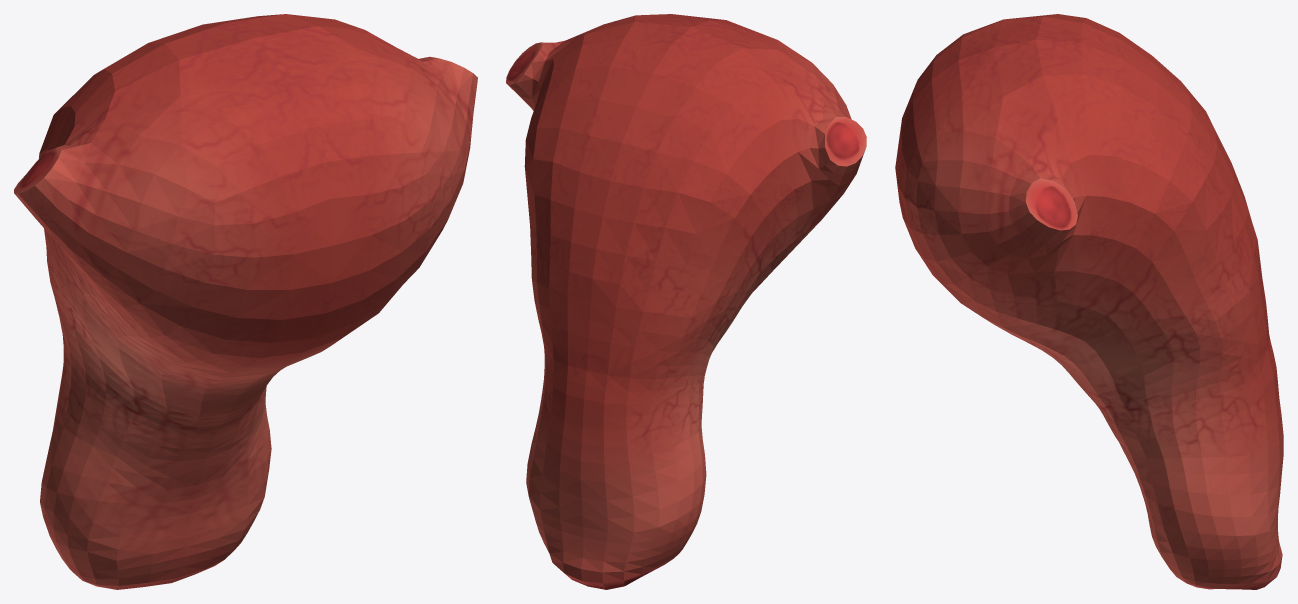
File: Utero_Alone_V2.obj
3 views of the same model, side by side, from view 1: azimuth 30°, elevation 25°; view 2: azimuth 150°, elevation 25°; view 3: azimuth 270°, elevation 25° (orthographic). The views are drawn at different scales.
Visible parts, largest first — view 1: Utero3_utero1; view 2: Utero3_utero1; view 3: Utero3_utero1.
Part boxes in pixels (<box>): Utero3_utero1: <box>14,14,477,589</box>; Utero3_utero1: <box>506,14,866,589</box>; Utero3_utero1: <box>895,14,1283,589</box>.
Size of the model in its own units: 1.21 by 1.58 by 1.03.
1 material, 1 textured.
